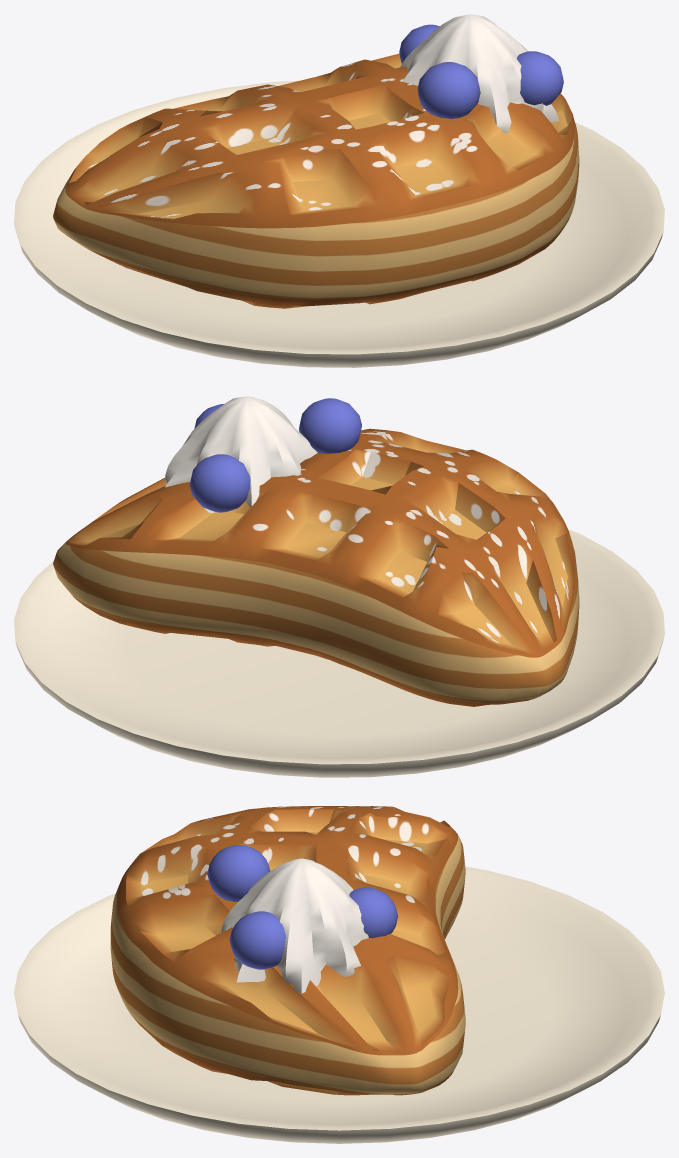
Rendered from Croffle.glb.
3 views of the same model, one above another, from view 1: azimuth 30°, elevation 25°; view 2: azimuth 150°, elevation 25°; view 3: azimuth 270°, elevation 25° (orthographic).
Parts seen in each view (by area): view 1: Croffle; view 2: Croffle; view 3: Croffle.
Part boxes in pixels (box(x1,y1,x2,y2)): Croffle: box(14, 14, 664, 367); Croffle: box(14, 396, 664, 777); Croffle: box(14, 806, 664, 1143).
Bounding box in the file's own units: 1.53 × 0.6103 × 1.53.
Materials: 5 (5 with a texture image).
